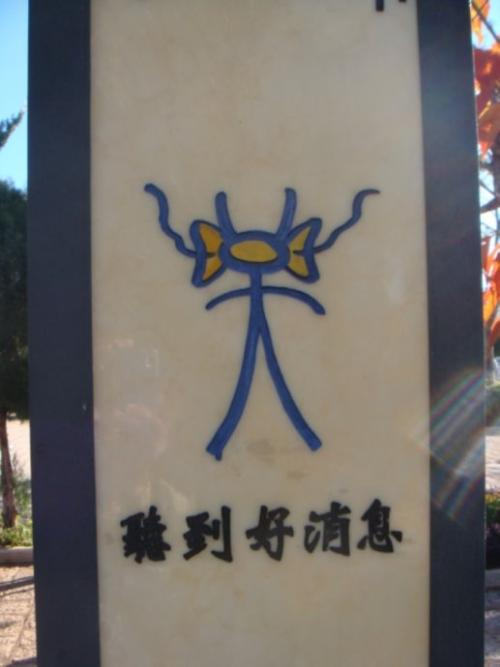chinese: (113, 502, 406, 567)
naxi: (138, 172, 380, 464)
